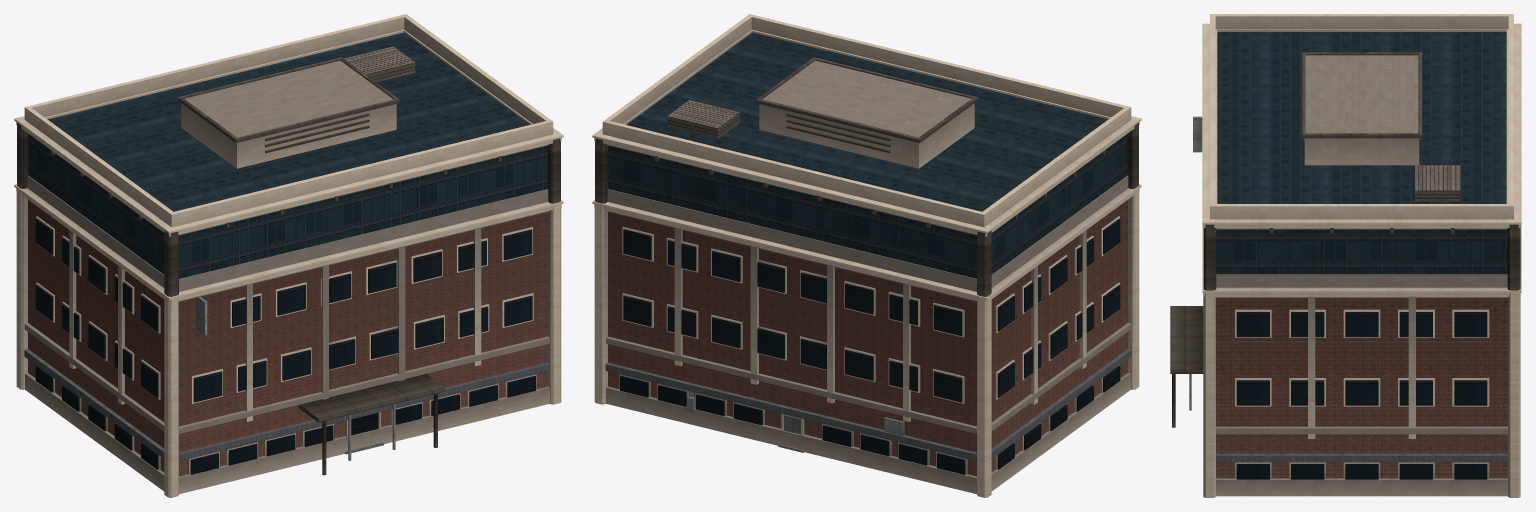
The model's file is skyline-table-block_lod0.gltf.
3 views of the same model, side by side, from view 1: azimuth 30°, elevation 25°; view 2: azimuth 150°, elevation 25°; view 3: azimuth 270°, elevation 25° (orthographic). The views are drawn at different scales.
Visible parts, largest first — view 1: skyline-table-block__v4_stone_detail, skyline-table-block_tier0, skyline-table-block_tier1, skyline-table-block_fen_07-glass-curtain-blue_1_t, skyline-table-block__v4_metal_detail, skyline-table-block_fen_04-limestone_0, skyline-table-block__trim_band, skyline-table-block__terrace_tables; view 2: skyline-table-block__v4_stone_detail, skyline-table-block_tier0, skyline-table-block_tier1, skyline-table-block_fen_07-glass-curtain-blue_1_t, skyline-table-block_fen_04-limestone_0, skyline-table-block__v4_metal_detail, skyline-table-block__trim_band, skyline-table-block__terrace_tables, skyline-table-block_fen_14-steel-panel_4; view 3: skyline-table-block__v4_stone_detail, skyline-table-block_tier1, skyline-table-block_tier0, skyline-table-block_fen_07-glass-curtain-blue_1_t, skyline-table-block__v4_metal_detail, skyline-table-block_fen_04-limestone_0, skyline-table-block__trim_band, skyline-table-block__terrace_tables.
Boxes of the visible parts, x1,y1,x2,y2 form: skyline-table-block__v4_stone_detail: (14,14,563,497); skyline-table-block_tier0: (28,200,547,476); skyline-table-block_tier1: (28,32,547,278); skyline-table-block_fen_07-glass-curtain-blue_1_t: (35,218,535,474); skyline-table-block__v4_metal_detail: (17,57,560,475); skyline-table-block_fen_04-limestone_0: (36,216,536,474); skyline-table-block__trim_band: (24,349,550,461); skyline-table-block__terrace_tables: (344,46,415,82); skyline-table-block__v4_stone_detail: (592,14,1141,497); skyline-table-block_tier0: (608,200,1127,476); skyline-table-block_tier1: (608,32,1127,278); skyline-table-block_fen_07-glass-curtain-blue_1_t: (620,218,1120,474); skyline-table-block_fen_04-limestone_0: (619,216,1119,474); skyline-table-block__v4_metal_detail: (595,57,1138,296); skyline-table-block__trim_band: (605,349,1131,461); skyline-table-block__terrace_tables: (667,100,739,138); skyline-table-block_fen_14-steel-panel_4: (686,391,904,435); skyline-table-block__v4_stone_detail: (1202,14,1521,497); skyline-table-block_tier1: (1216,32,1507,274); skyline-table-block_tier0: (1216,297,1507,478); skyline-table-block_fen_07-glass-curtain-blue_1_t: (1236,312,1487,479); skyline-table-block__v4_metal_detail: (1170,52,1520,427); skyline-table-block_fen_04-limestone_0: (1235,309,1489,478); skyline-table-block__trim_band: (1216,453,1507,462); skyline-table-block__terrace_tables: (1415,165,1460,201).
Size of the model in its own units: 31.15 by 22.3 by 23.28.
